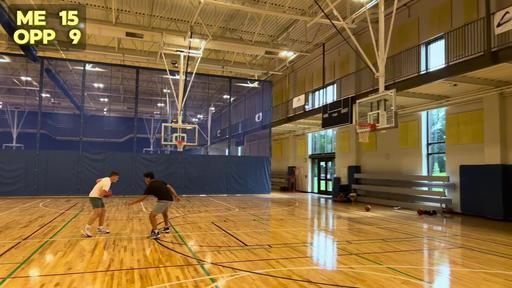ball: (364, 203, 372, 212)
human: (126, 171, 180, 240), (80, 171, 119, 238)
rim: (356, 122, 372, 143), (175, 140, 185, 152)
